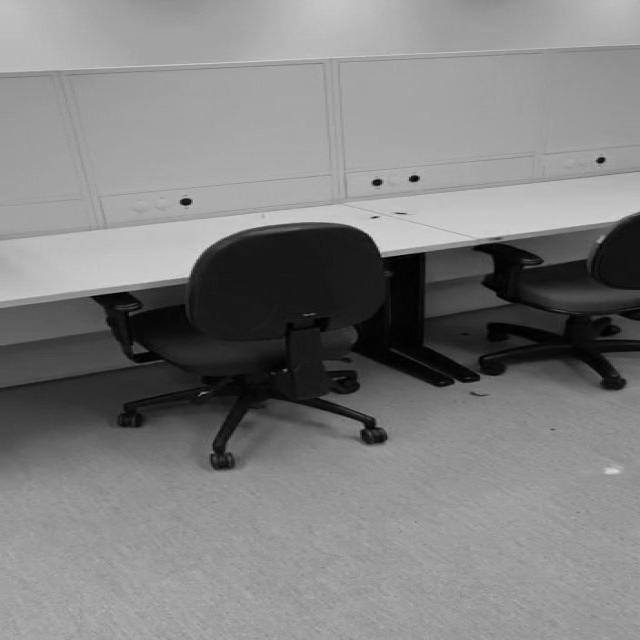chair: (92, 222, 390, 470)
